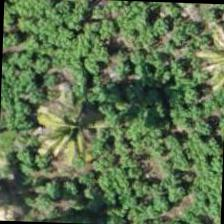Kelapa_Sawit: (36, 80, 129, 172)
